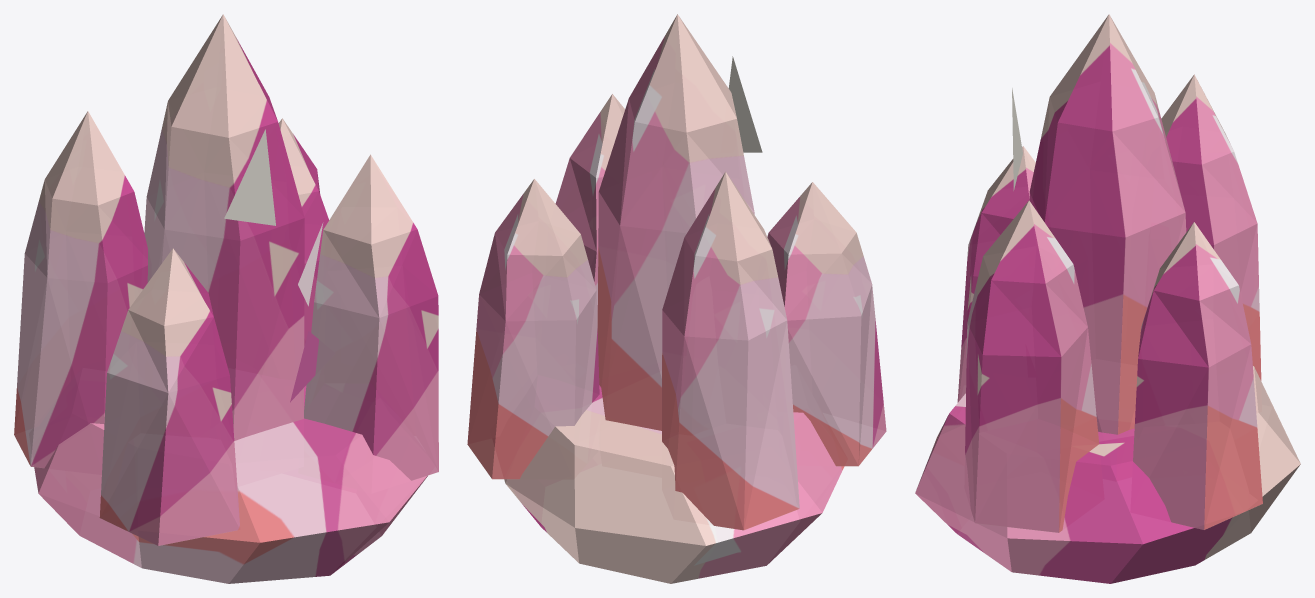
The model's file is asset.glb.
3 renders of one model, left to right at view 1: azimuth 30°, elevation 25°; view 2: azimuth 150°, elevation 25°; view 3: azimuth 270°, elevation 25°, orthographic.
Visible parts, largest first — view 1: Heart spire, Low faceted crystal foot, Front left shard, Front right shard, Rear left shard, Rear right shard, Large icy glint, Magenta heart facet, Small pink glint; view 2: Rear left shard, Heart spire, Low faceted crystal foot, Rear right shard, Front left shard, Front right shard, Large icy glint; view 3: Heart spire, Front right shard, Rear right shard, Low faceted crystal foot, Rear left shard, Front left shard, Large icy glint.
Part boxes in pixels (x1,y1,x2,y2): Heart spire: (144,14,304,440); Low faceted crystal foot: (34,385,427,583); Front left shard: (99,248,239,545); Front right shard: (304,154,438,480); Rear left shard: (14,111,147,468); Rear right shard: (278,118,328,345); Large icy glint: (224,129,275,225); Magenta heart facet: (290,331,318,402); Small pink glint: (298,222,323,306); Rear left shard: (662,171,799,530); Heart spire: (597,14,754,430); Low faceted crystal foot: (504,385,844,583); Rear right shard: (467,179,599,479); Front left shard: (767,182,886,466); Front right shard: (555,94,624,321); Large icy glint: (728,56,762,152); Heart spire: (1029,14,1186,434); Front right shard: (965,200,1099,532); Rear right shard: (1133,222,1262,529); Low faceted crystal foot: (915,366,1300,583); Rear left shard: (1161,74,1261,380); Front left shard: (957,146,1035,402); Large icy glint: (1012,88,1022,190).
Size of the model in its own units: 0.208 by 0.3 by 0.2075.
4 materials, 1 textured.
